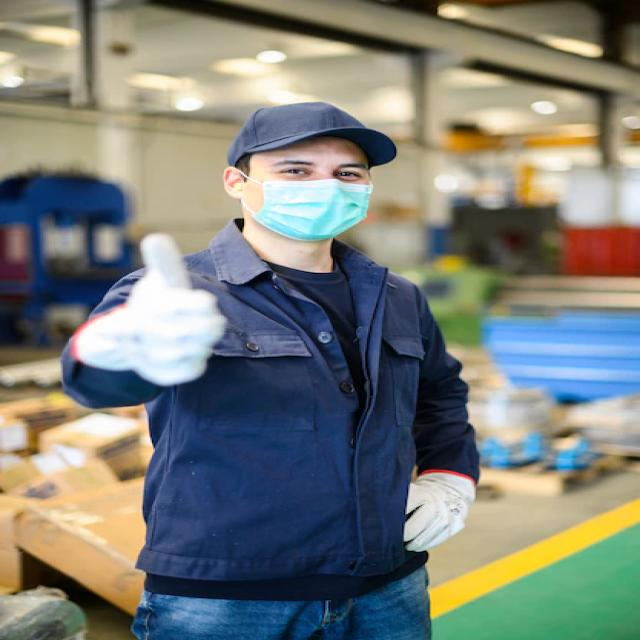Gloves: (71, 232, 225, 386), (405, 472, 473, 551)
Mask: (242, 172, 373, 241)
No Earmuff: (217, 168, 252, 198)
No Hardhat: (227, 102, 396, 166)
No Overall Suit: (62, 220, 479, 599)
